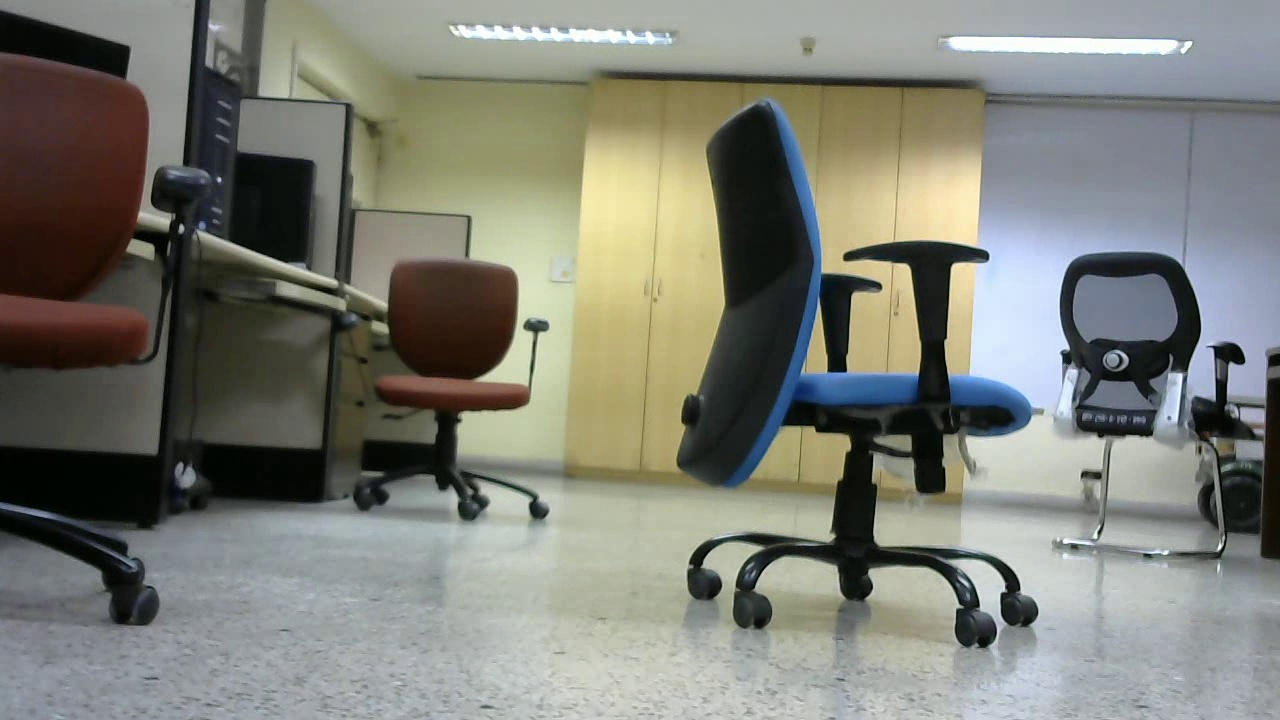chair: (671, 117, 1038, 641), (4, 56, 162, 634), (1056, 256, 1228, 560), (362, 249, 554, 520)
